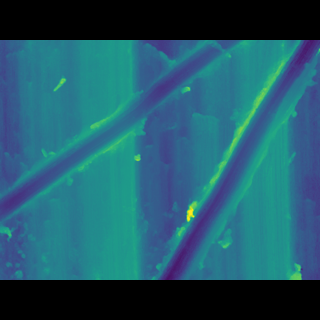Loch: (0, 69, 254, 208), (152, 68, 319, 250)
